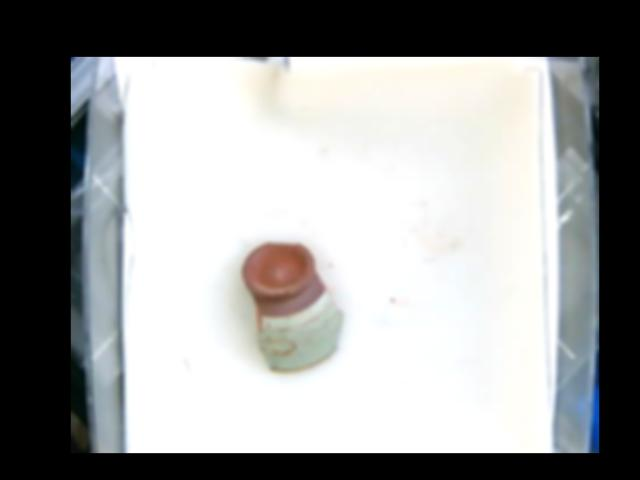China: (240, 240, 343, 373)
